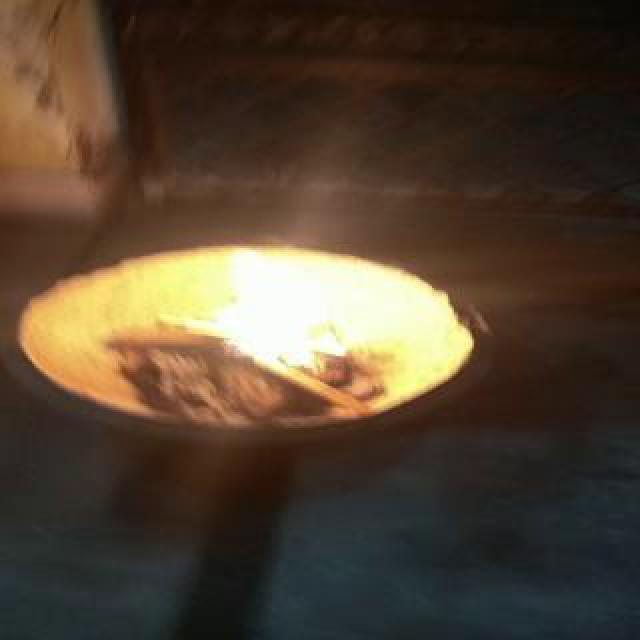Fire: (184, 244, 420, 384)
